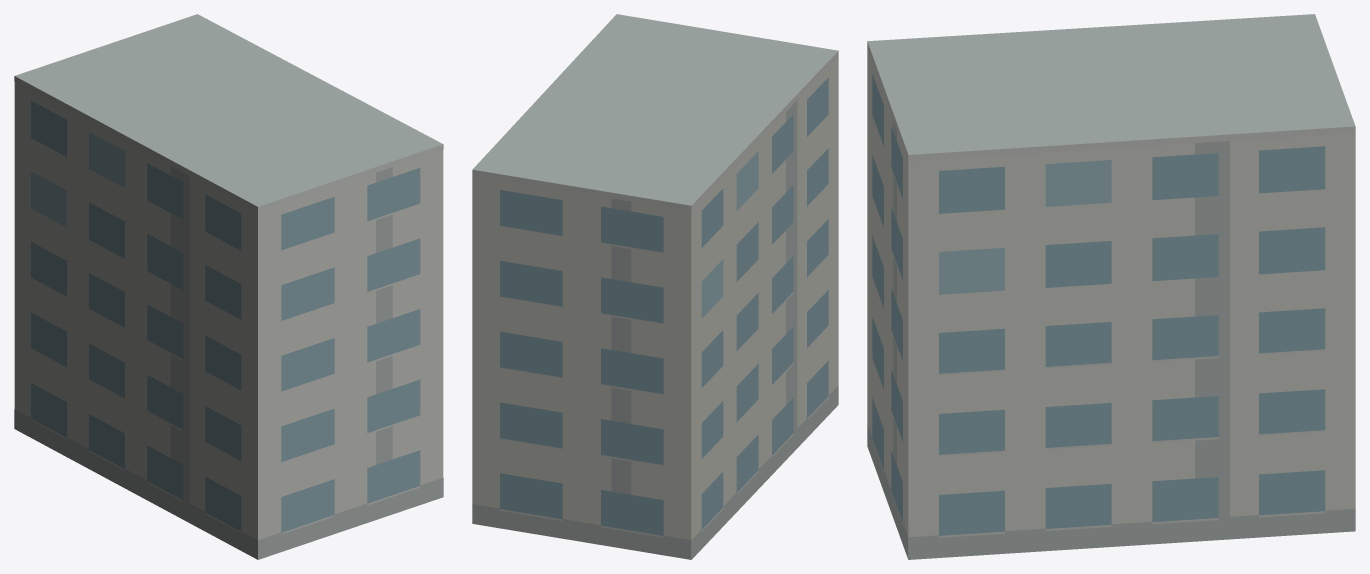
Rendered from survey-upis-32992647.glb.
The picture shows the model from 3 angles, left to right: view 1: azimuth 30°, elevation 25°; view 2: azimuth 150°, elevation 25°; view 3: azimuth 270°, elevation 25°; orthographic projection. The views are drawn at different scales.
Parts seen in each view (by area): view 1: survey-upis-32992647.tmp; view 2: survey-upis-32992647.tmp; view 3: survey-upis-32992647.tmp.
Boxes of the visible parts, x1=… form: survey-upis-32992647.tmp: x1=14, y1=14, x2=443, y2=559; survey-upis-32992647.tmp: x1=472, y1=14, x2=838, y2=559; survey-upis-32992647.tmp: x1=867, y1=14, x2=1355, y2=559.
Size of the model in its own units: 11.39 by 15.25 by 16.67.
